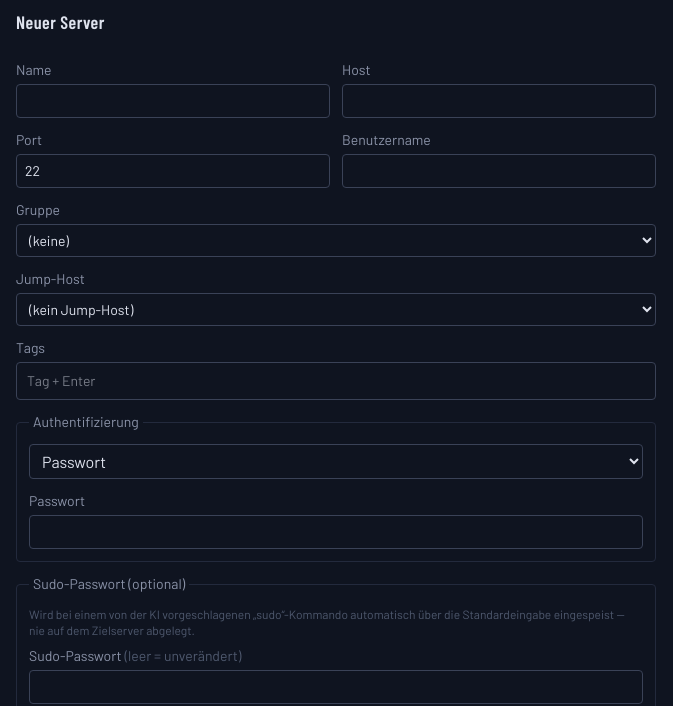
Scenario: ServerForm — Anmeldeart Schlüsseldatei (Spec 0076, B-1..B-4) › zeigt einen Hinweis, wenn der Vorab-Befund selbst nicht abgefragt werden konnte
The width and height of the screenshot is (673, 706).
Select "Schlüsseldatei" in the 3rd dropdown at (336, 462), box [29,444,643,479]
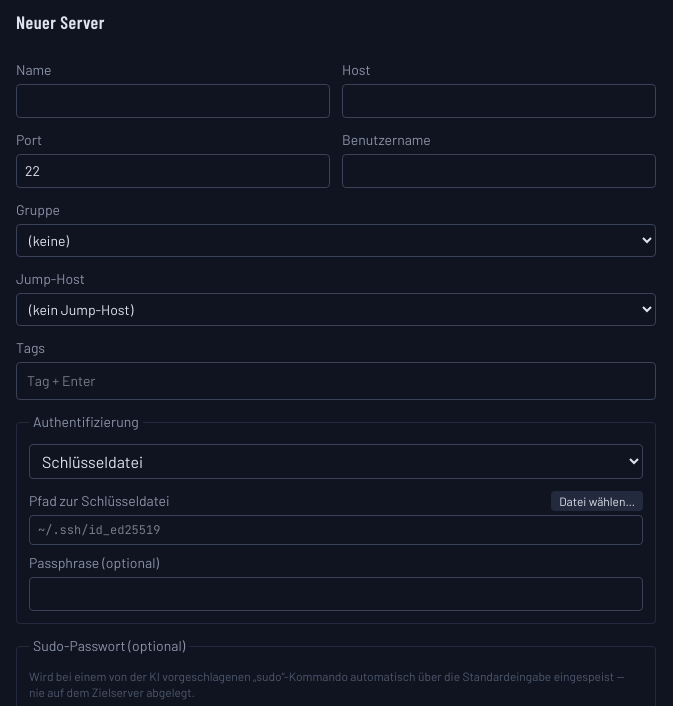
Type "/home/deploy/.ssh/id_ed25519" into the field with placeholder "~/.ssh/id_ed25519" at (336, 530), box [29,515,643,545]
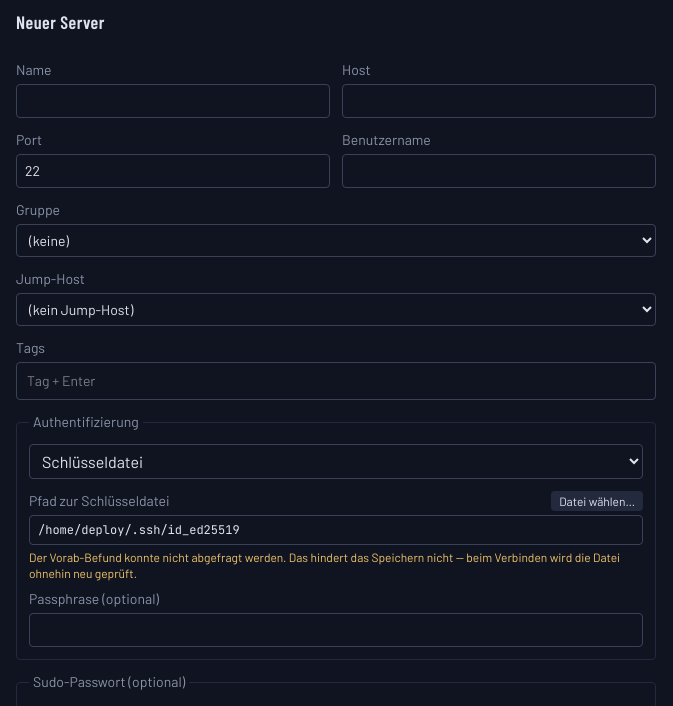
Now the text "Der Vorab-Befund konnte nicht abgefragt werden. Das hindert das Speichern nicht — beim Verbinden wird die Datei ohnehin " is shown, box [29,550,620,580]
